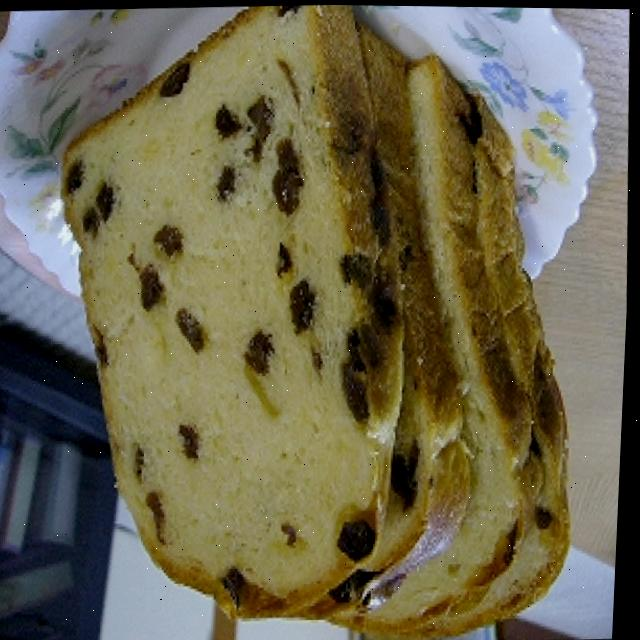面包点心: (55, 1, 580, 640)
